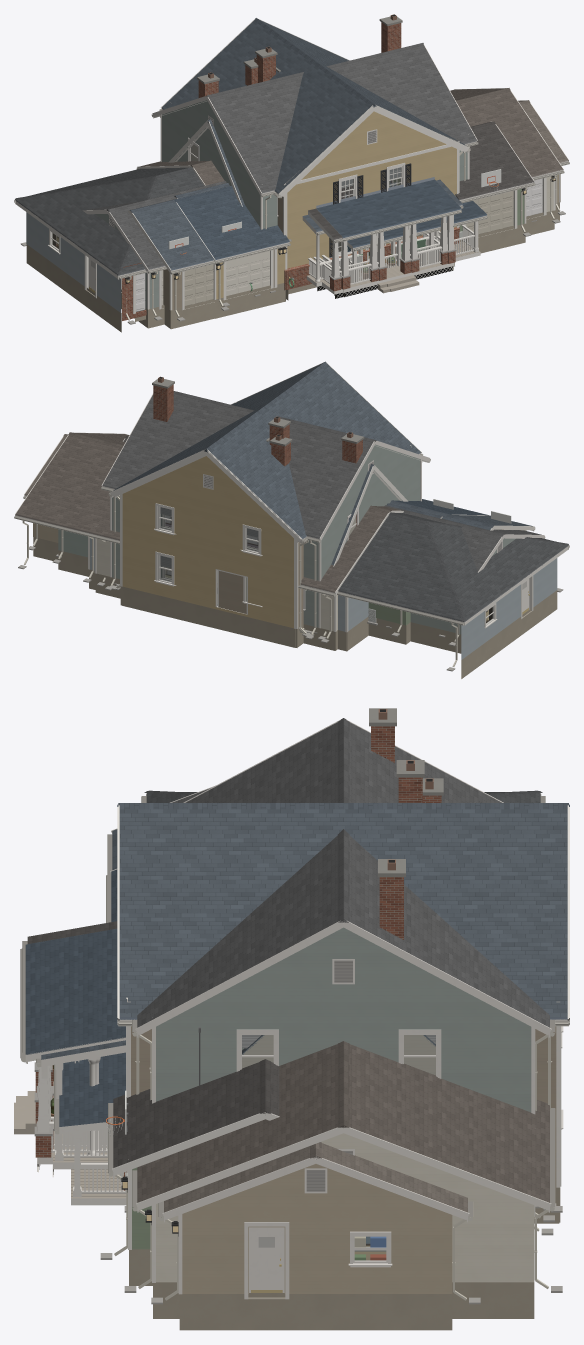
The model's file is house.prologue.v1.glb.
3 views of the same model, one above another, from view 1: azimuth 30°, elevation 25°; view 2: azimuth 150°, elevation 25°; view 3: azimuth 270°, elevation 25° (orthographic). The views are drawn at different scales.
Visible parts, largest first — view 1: house.lotR530:lod0, house.lotR8:lod0, house.lotR66:lod0, house.hoop:lod0, house.lotRm21:lod0, house.lotR153:lod0, house.lotLm21:lod0, house.car:lod0, house.lotL8:lod0, house.lotL66:lod0, house.lotL37:lod0; view 2: house.lotR530:lod0, house.lotR8:lod0, house.hoop:lod0, house.lotR66:lod0, house.lotR153:lod0, house.car:lod0, house.lotL66:lod0, house.lotR37:lod0, house.lotL8:lod0, house.lotRm21:lod0, house.lotL37:lod0; view 3: house.lotR8:lod0, house.lotR66:lod0, house.car:lod0, house.lotR153:lod0, house.lotRm21:lod0, house.lotR530:lod0, house.lotLm21:lod0, house.lotL8:lod0, house.lotL37:lod0, house.lotL66:lod0, house.hoop:lod0.
Boxes of the visible parts, <box> form: house.lotR530:lod0: <box>160,105,469,318</box>; house.lotR8:lod0: <box>82,43,478,328</box>; house.lotR66:lod0: <box>127,18,470,329</box>; house.hoop:lod0: <box>14,167,203,332</box>; house.lotRm21:lod0: <box>243,57,535,300</box>; house.lotR153:lod0: <box>136,88,564,296</box>; house.lotLm21:lod0: <box>347,201,487,268</box>; house.car:lod0: <box>197,72,569,281</box>; house.lotL8:lod0: <box>174,14,463,306</box>; house.lotL66:lod0: <box>255,46,438,291</box>; house.lotL37:lod0: <box>168,67,536,221</box>; house.lotR530:lod0: <box>109,445,490,647</box>; house.lotR8:lod0: <box>101,391,545,653</box>; house.hoop:lod0: <box>83,511,569,678</box>; house.lotR66:lod0: <box>108,361,535,647</box>; house.lotR153:lod0: <box>14,432,403,650</box>; house.car:lod0: <box>23,432,364,560</box>; house.lotL66:lod0: <box>52,416,311,633</box>; house.lotR37:lod0: <box>300,499,453,644</box>; house.lotL8:lod0: <box>152,376,442,632</box>; house.lotRm21:lod0: <box>113,434,309,635</box>; house.lotL37:lod0: <box>55,438,408,633</box>; house.lotR8:lod0: <box>124,718,562,1212</box>; house.lotR66:lod0: <box>15,803,568,1223</box>; house.car:lod0: <box>78,708,480,1330</box>; house.lotR153:lod0: <box>124,1041,562,1318</box>; house.lotRm21:lod0: <box>16,778,443,1285</box>; house.lotR530:lod0: <box>14,804,569,1222</box>; house.lotLm21:lod0: <box>54,1052,554,1222</box>; house.lotL8:lod0: <box>29,859,405,1177</box>; house.lotL37:lod0: <box>242,1035,435,1075</box>; house.lotL66:lod0: <box>73,760,539,1208</box>; house.hoop:lod0: <box>141,790,553,1235</box>.
Size of what is drawn, in the model's own units: 25.76 by 10.74 by 14.26.
10 materials, 6 textured.
